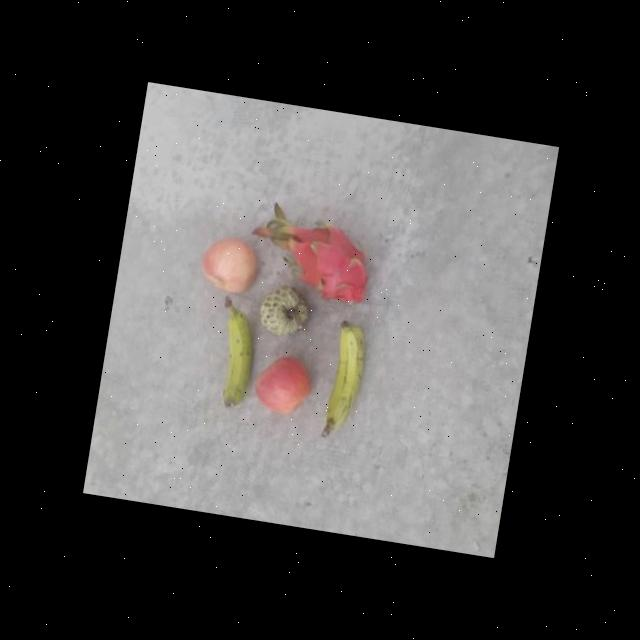Sakya fruit: (252, 282, 316, 343)
apple: (247, 351, 316, 422), (196, 232, 266, 300)
banana: (313, 316, 372, 436), (202, 301, 260, 415)
pitaya: (277, 217, 376, 310)
